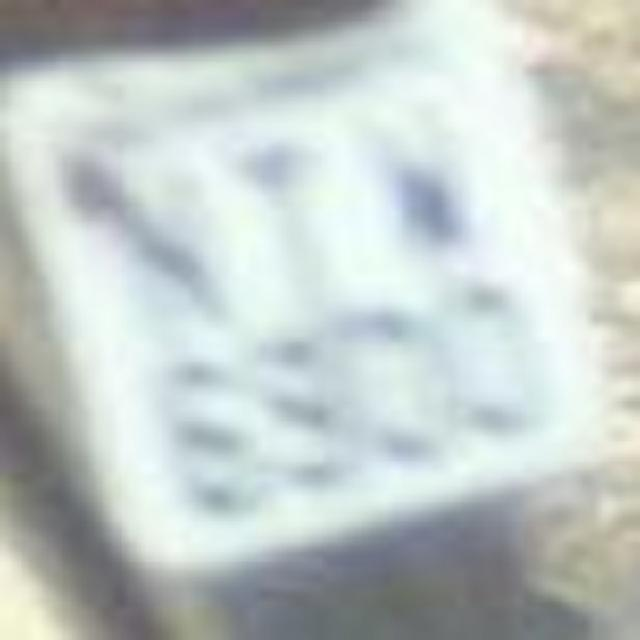5: (212, 328, 396, 492)
8: (124, 348, 308, 520)
B: (360, 100, 500, 285)
N: (44, 149, 231, 336)
T: (204, 116, 356, 312)
